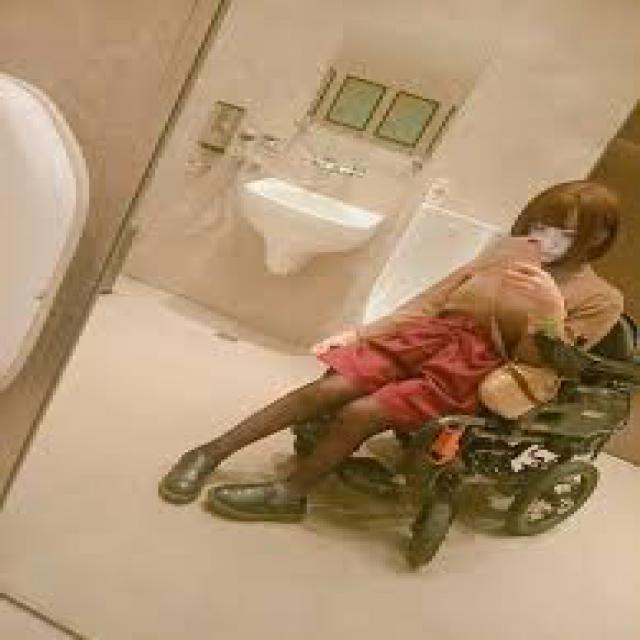wheelchairs: (277, 264, 630, 571)
